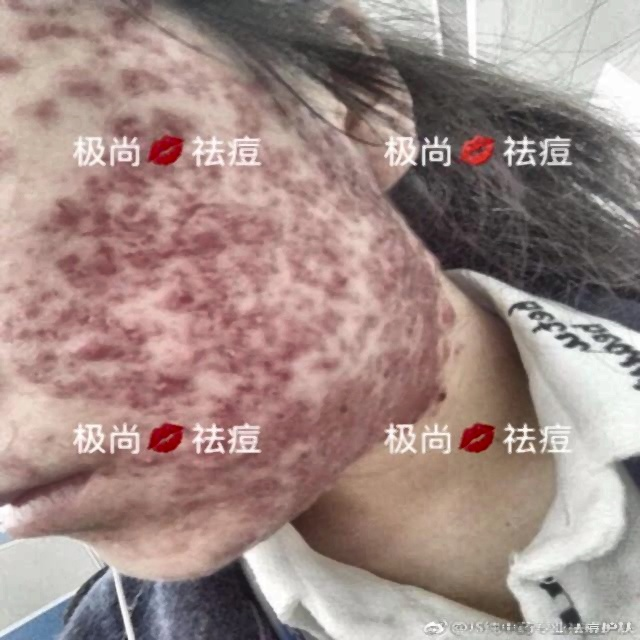nodule: (96, 112, 179, 158), (210, 391, 271, 448), (162, 191, 226, 235), (243, 212, 301, 258), (48, 333, 112, 371), (388, 248, 438, 296), (24, 0, 77, 44), (360, 354, 424, 386), (75, 210, 130, 247), (263, 147, 322, 181), (181, 227, 223, 274), (356, 220, 404, 260), (211, 312, 265, 346), (57, 292, 101, 332), (188, 85, 238, 120), (12, 352, 58, 389), (155, 105, 203, 140), (313, 151, 356, 189), (156, 288, 218, 314), (115, 60, 165, 92), (218, 95, 265, 128), (66, 74, 109, 110), (228, 251, 279, 281), (384, 283, 433, 314), (322, 385, 365, 419), (132, 235, 179, 265), (300, 358, 336, 396), (113, 378, 147, 418), (284, 402, 320, 437), (190, 154, 231, 184), (39, 194, 79, 224), (122, 268, 168, 294), (22, 94, 64, 122), (170, 483, 207, 513), (0, 310, 33, 343), (72, 172, 120, 194), (288, 310, 333, 333), (48, 249, 86, 276), (50, 377, 89, 402), (207, 350, 237, 382), (248, 362, 288, 386), (433, 305, 465, 335), (170, 458, 222, 476), (103, 326, 141, 350), (376, 312, 414, 336), (273, 316, 305, 344), (283, 256, 315, 284), (246, 473, 283, 497), (148, 371, 178, 400), (243, 300, 275, 327), (110, 171, 152, 191), (133, 448, 162, 474), (0, 55, 34, 76), (121, 347, 153, 366), (290, 445, 316, 466), (80, 254, 106, 273), (342, 287, 358, 299), (307, 248, 318, 256), (97, 396, 101, 398)
